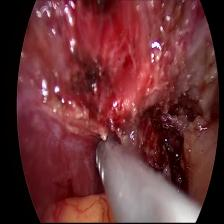Irrigator: (92, 132, 128, 198)
